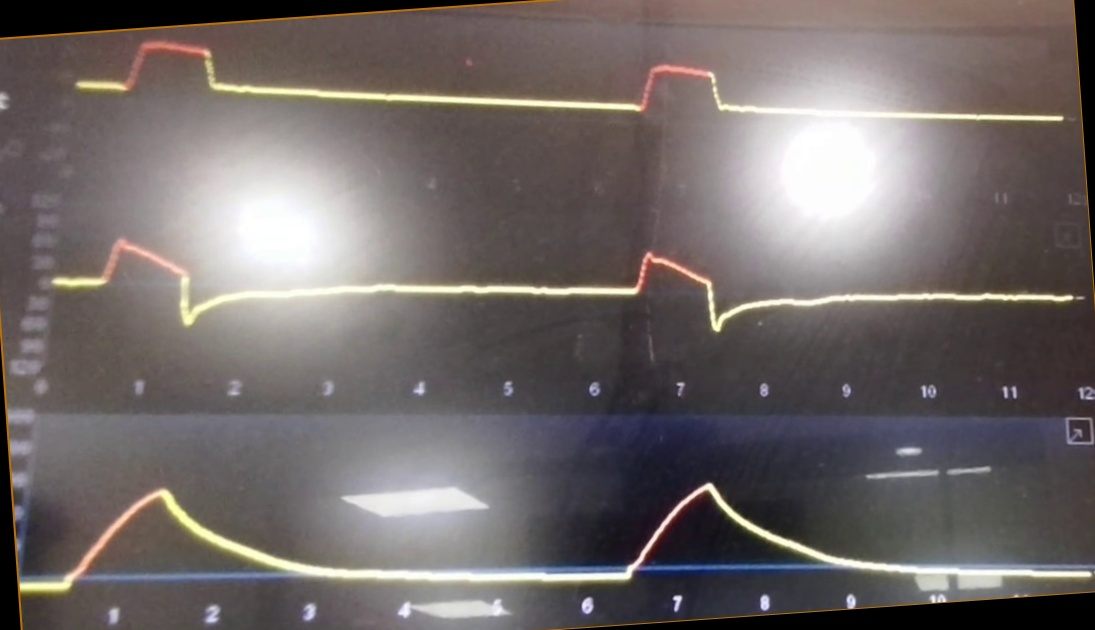Normal Flow: (52, 212, 1084, 353)
Normal Volume: (23, 451, 1088, 594)
